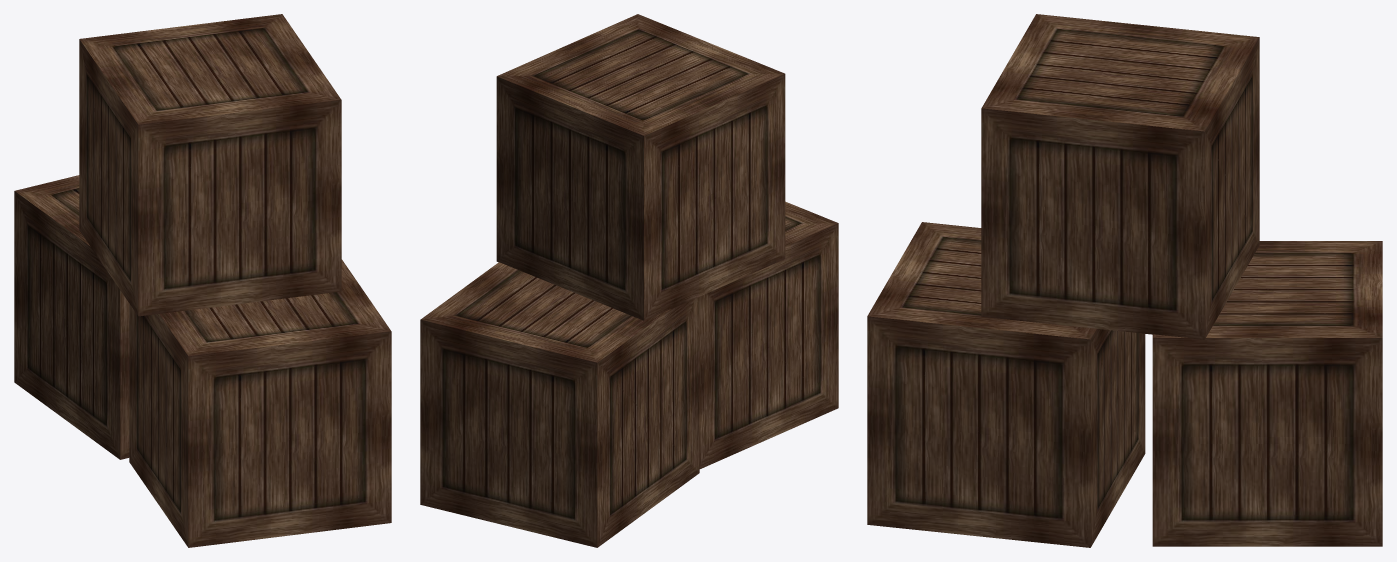
The picture shows the model from 3 angles, left to right: view 1: azimuth 30°, elevation 25°; view 2: azimuth 150°, elevation 25°; view 3: azimuth 270°, elevation 25°; orthographic projection. The views are drawn at different scales.
Visible parts, largest first — view 1: Cube, Cube.002, Cube.001; view 2: Cube, Cube.001, Cube.002; view 3: Cube, Cube.002, Cube.001.
Part boxes in pixels (bbox=[...]): Cube: bbox=[79, 14, 341, 316]; Cube.002: bbox=[129, 259, 391, 547]; Cube.001: bbox=[14, 175, 129, 459]; Cube: bbox=[496, 14, 785, 320]; Cube.001: bbox=[420, 262, 699, 547]; Cube.002: bbox=[699, 201, 838, 468]; Cube: bbox=[981, 14, 1259, 339]; Cube.002: bbox=[867, 222, 1145, 547]; Cube.001: bbox=[1152, 241, 1382, 546].
Size of the model in its own units: 2.45 by 4.01 by 4.48.
Materials: 3 (3 with a texture image).
